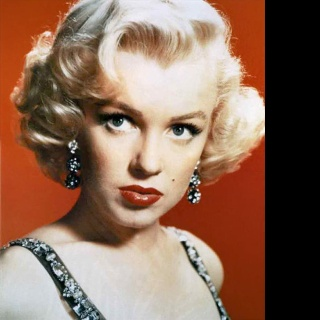without_mask: (75, 51, 213, 228)
